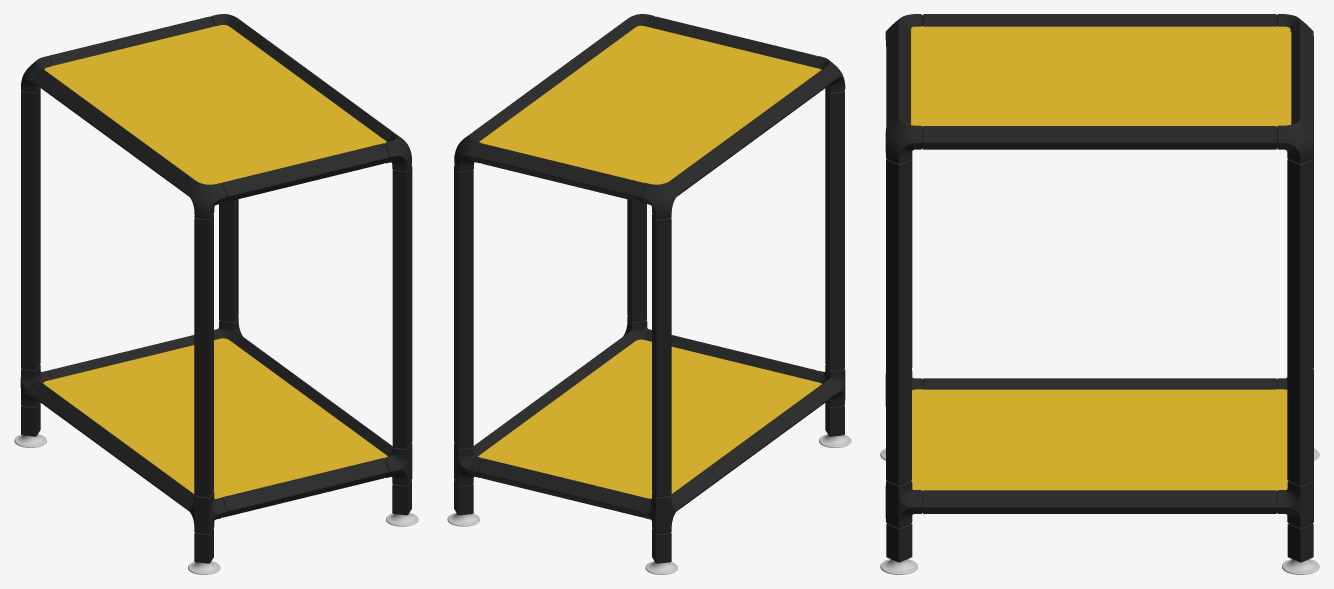
3 renders of one model, left to right at view 1: azimuth 30°, elevation 25°; view 2: azimuth 150°, elevation 25°; view 3: azimuth 270°, elevation 25°, orthographic. The views are drawn at different scales.
Parts seen in each view (by area): view 1: 229x374x374; view 2: 229x374x374; view 3: 229x374x374.
Boxes of the visible parts, box(x1,y1,x2,y2) form: 229x374x374: box(14, 14, 418, 574); 229x374x374: box(447, 14, 851, 574); 229x374x374: box(880, 14, 1319, 574).
Size of the model in its own units: 0.3189 by 0.5133 by 0.4632.
